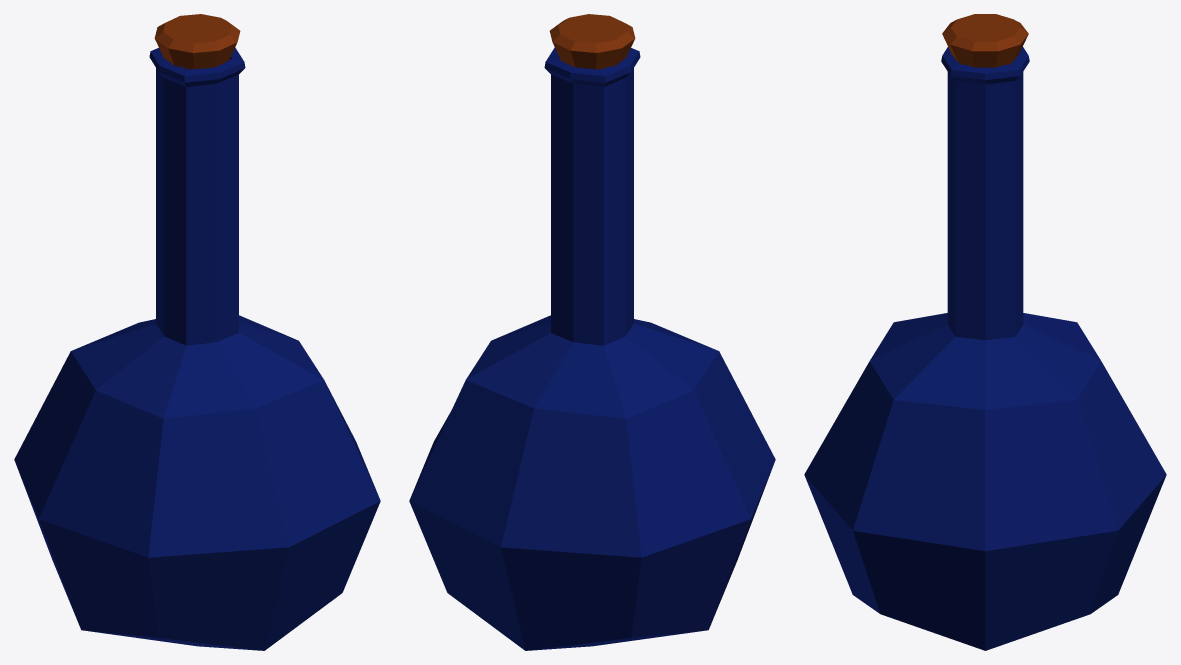
Rendered from MESH_PoisonPotion.fbx.
The picture shows the model from 3 angles, left to right: view 1: azimuth 30°, elevation 25°; view 2: azimuth 150°, elevation 25°; view 3: azimuth 270°, elevation 25°; orthographic projection.
Visible parts, largest first — view 1: MESH_PoisonPotion; view 2: MESH_PoisonPotion; view 3: MESH_PoisonPotion.
Boxes of the visible parts, x1,y1,x2,y2 form: MESH_PoisonPotion: [14, 14, 380, 650]; MESH_PoisonPotion: [409, 14, 775, 650]; MESH_PoisonPotion: [804, 14, 1166, 650].
Size of the model in its own units: 0.1374 by 0.2555 by 0.1374.
